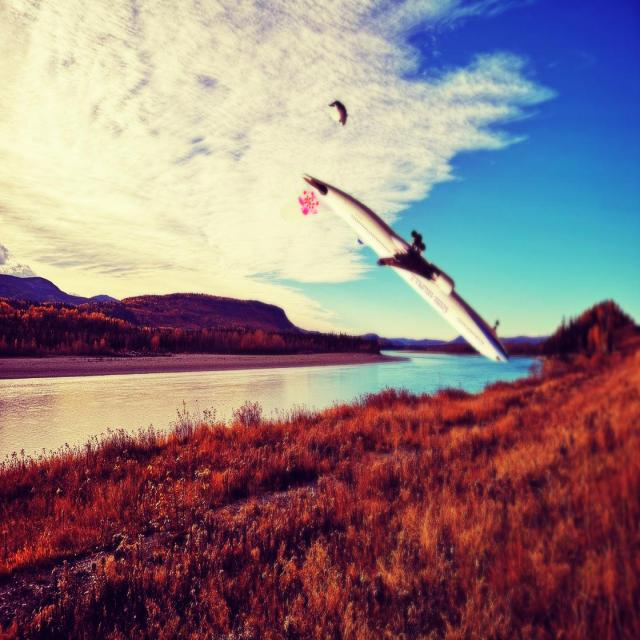airplane: (300, 172, 510, 362)
